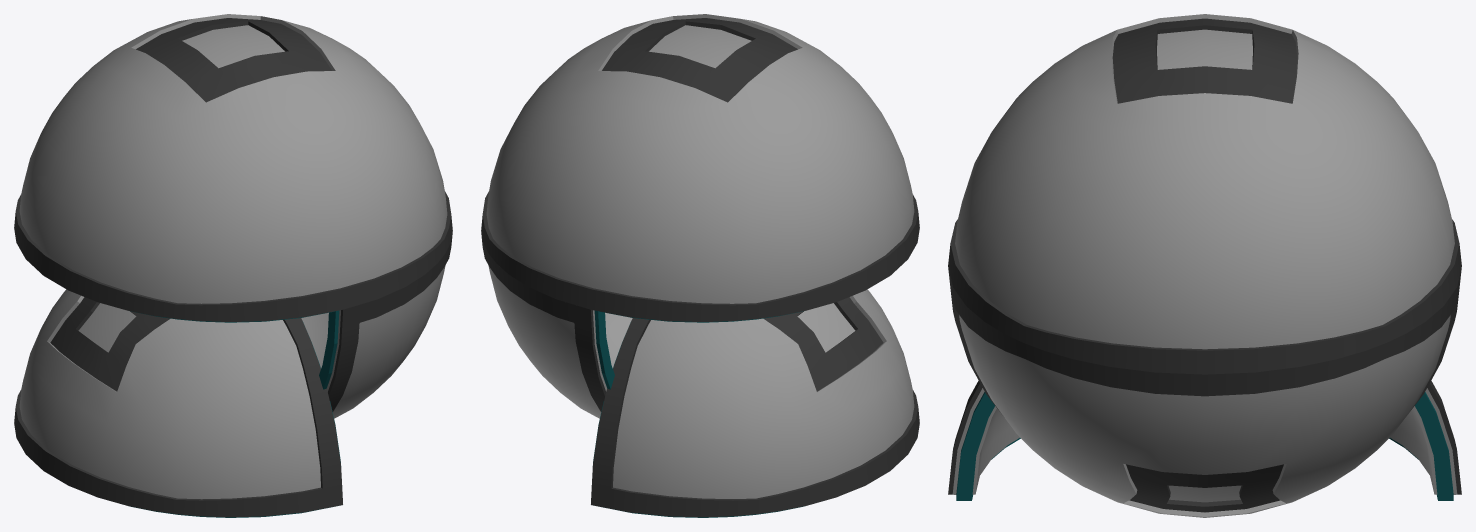
Rendered from Breaches_Final.FBX.
3 views of the same model, side by side, from view 1: azimuth 30°, elevation 25°; view 2: azimuth 150°, elevation 25°; view 3: azimuth 270°, elevation 25° (orthographic). The views are drawn at different scales.
Parts seen in each view (by area): view 1: Breaches_Top_001, Breaches_Bottom_001, Breaches_Bottom_002; view 2: Breaches_Top_001, Breaches_Bottom_001, Breaches_Bottom_002; view 3: Breaches_Top_001, Breaches_Bottom_002, Breaches_Bottom_001.
Boxes of the visible parts, x1,y1,x2,y2 form: Breaches_Top_001: (14,14,452,322); Breaches_Bottom_001: (14,289,342,517); Breaches_Bottom_002: (301,233,452,418); Breaches_Top_001: (481,14,919,322); Breaches_Bottom_001: (591,289,919,517); Breaches_Bottom_002: (481,233,632,418); Breaches_Top_001: (948,14,1461,374); Breaches_Bottom_002: (948,268,1461,517); Breaches_Bottom_001: (948,380,1461,500).
Size of the model in its own units: 11.2 by 10.92 by 11.2.
